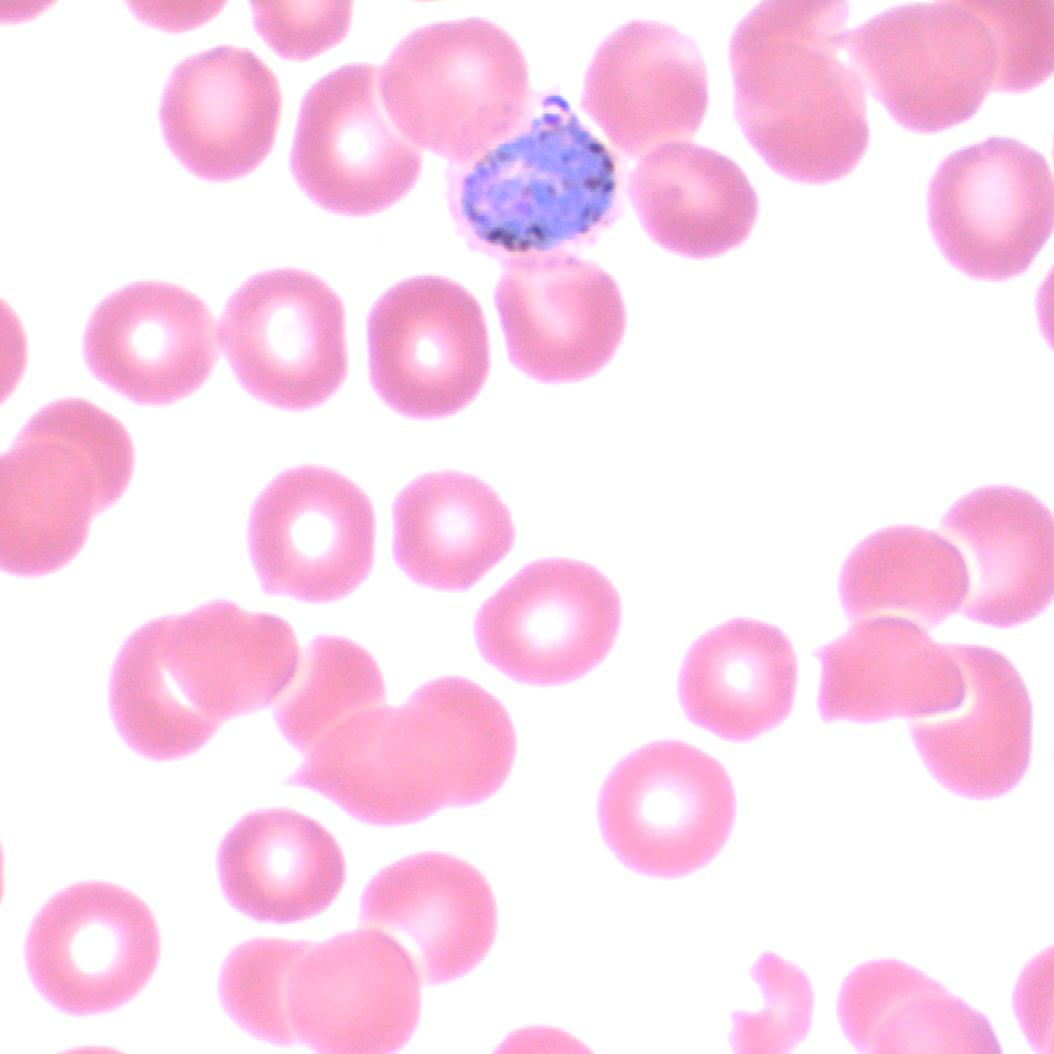Infected: (442, 86, 626, 265)
Uninfected: (288, 60, 428, 219), (378, 18, 528, 160), (472, 550, 623, 687), (900, 644, 1034, 798), (848, 0, 1001, 132), (734, 40, 868, 184), (24, 878, 160, 1017), (598, 738, 735, 874), (218, 266, 348, 409), (926, 134, 1054, 279), (576, 16, 704, 160), (360, 848, 496, 983), (364, 274, 487, 420), (384, 674, 519, 807), (78, 280, 215, 409), (248, 464, 372, 603), (494, 250, 628, 377), (286, 928, 421, 1054), (108, 614, 221, 763), (10, 396, 133, 532), (940, 484, 1054, 628), (160, 44, 280, 179), (834, 522, 970, 638), (676, 614, 799, 742), (632, 140, 759, 260), (166, 604, 301, 716), (394, 468, 517, 590), (214, 806, 343, 921), (264, 634, 381, 748)
